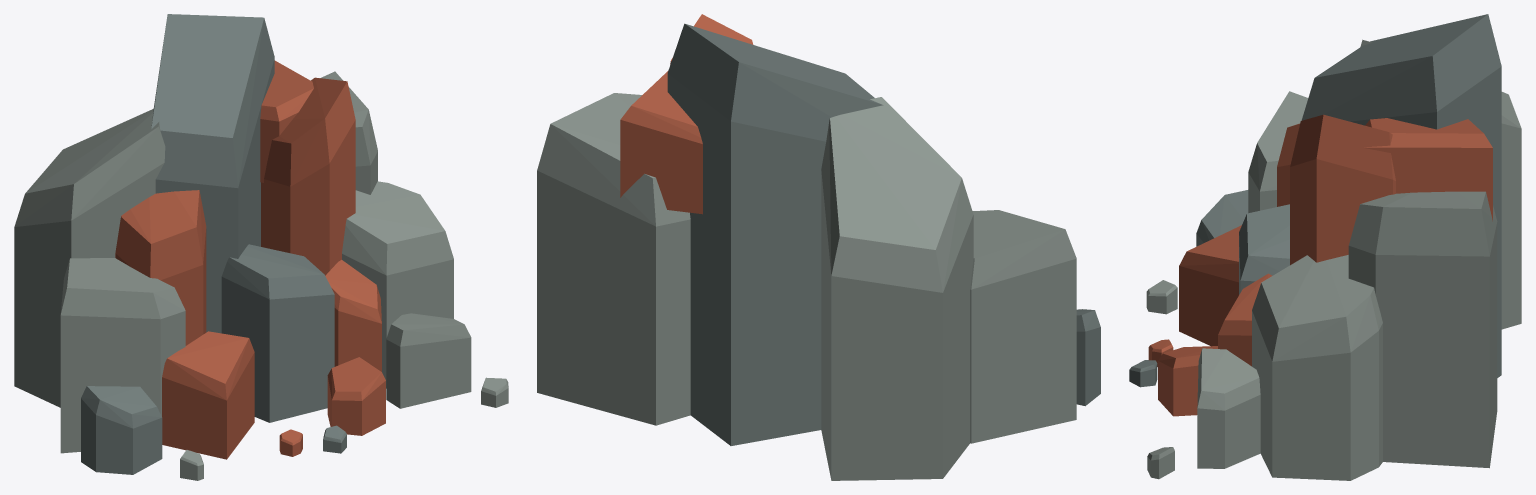
The model's file is iron_deposit.glb.
3 views of the same model, side by side, from view 1: azimuth 30°, elevation 25°; view 2: azimuth 150°, elevation 25°; view 3: azimuth 270°, elevation 25° (orthographic). The views are drawn at different scales.
Parts seen in each view (by area): view 1: Iron deposit Stone, Iron deposit Weathered stone, Iron deposit Iron ore; view 2: Iron deposit Stone, Iron deposit Weathered stone, Iron deposit Iron ore; view 3: Iron deposit Stone, Iron deposit Iron ore, Iron deposit Weathered stone.
Boxes of the visible parts, x1,y1,x2,y2 form: Iron deposit Stone: [14, 71, 508, 480]; Iron deposit Weathered stone: [81, 14, 346, 474]; Iron deposit Iron ore: [115, 60, 385, 459]; Iron deposit Stone: [537, 93, 1076, 480]; Iron deposit Weathered stone: [667, 23, 1100, 445]; Iron deposit Iron ore: [620, 14, 753, 214]; Iron deposit Stone: [1146, 39, 1521, 480]; Iron deposit Iron ore: [1148, 114, 1492, 416]; Iron deposit Weathered stone: [1129, 14, 1501, 387].
Size of the model in its own units: 1.47 by 1.16 by 1.14.
